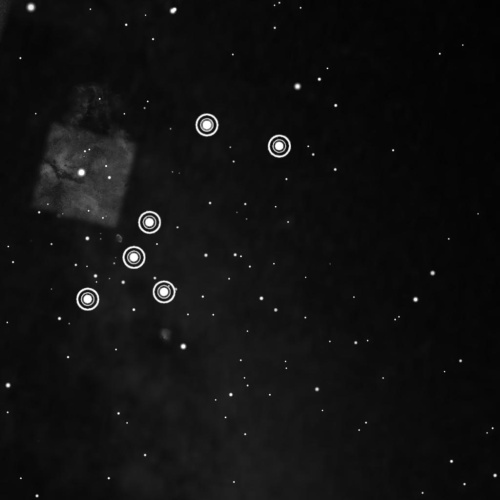canis_major: (69, 106, 302, 318)
